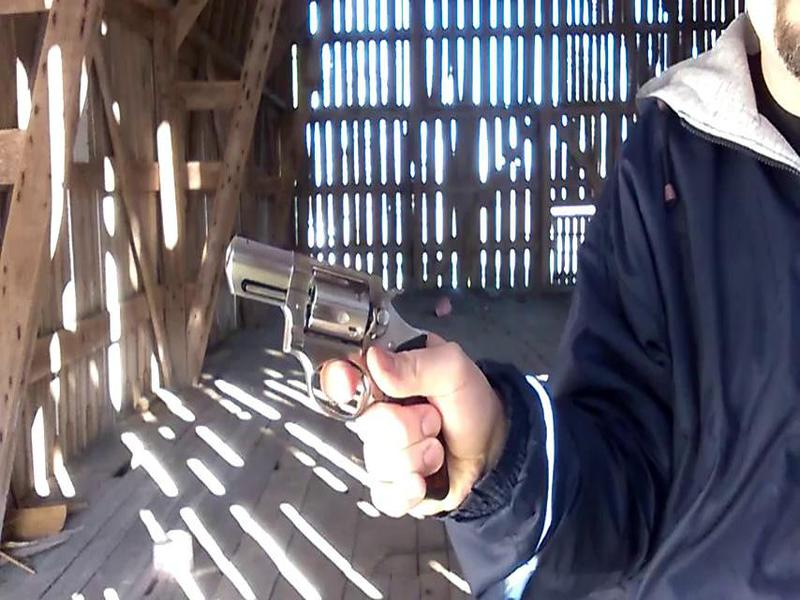Revolver: (224, 224, 452, 433)
